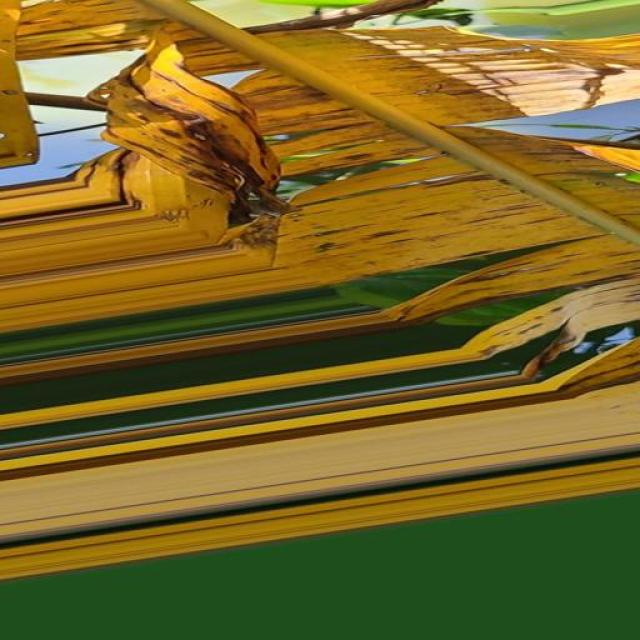Cordana: (0, 0, 640, 438)
